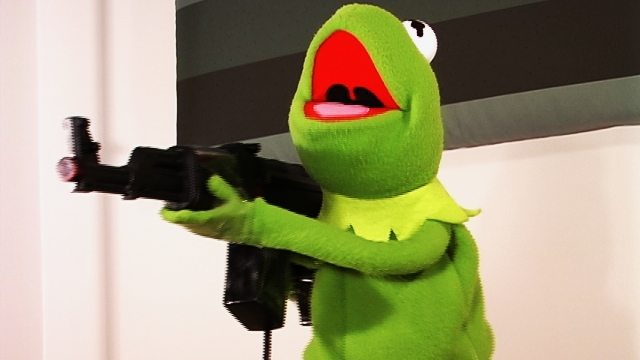kermit: (287, 2, 446, 198)
